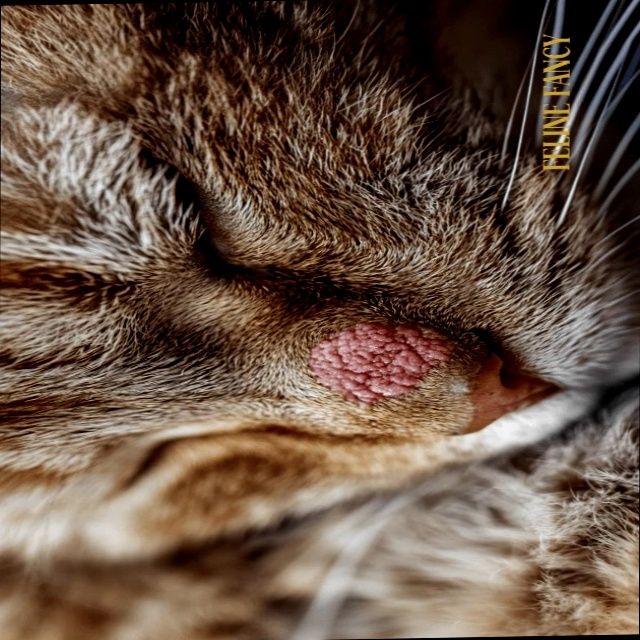lump_and_bump: (306, 323, 454, 402)
